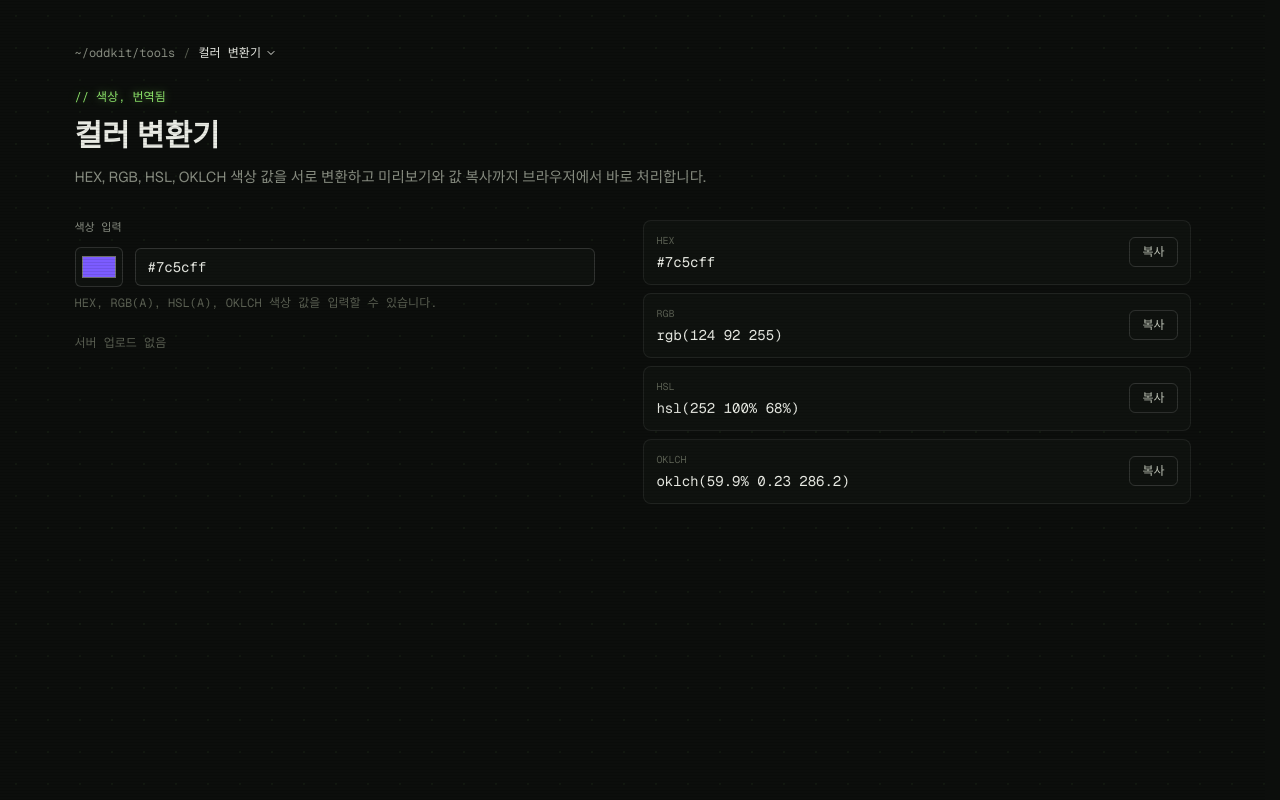
Test: ColorConverterTool › 복사 버튼: 클릭하면 클립보드에 값이 복사되고 안내 문구가 바뀐다
Expected: the heading "컬러 변환기" is shown, [74,116,220,155]
Click the button "복사" in the row of "#7c5cff" at (1153, 252), box [1129,237,1178,267]
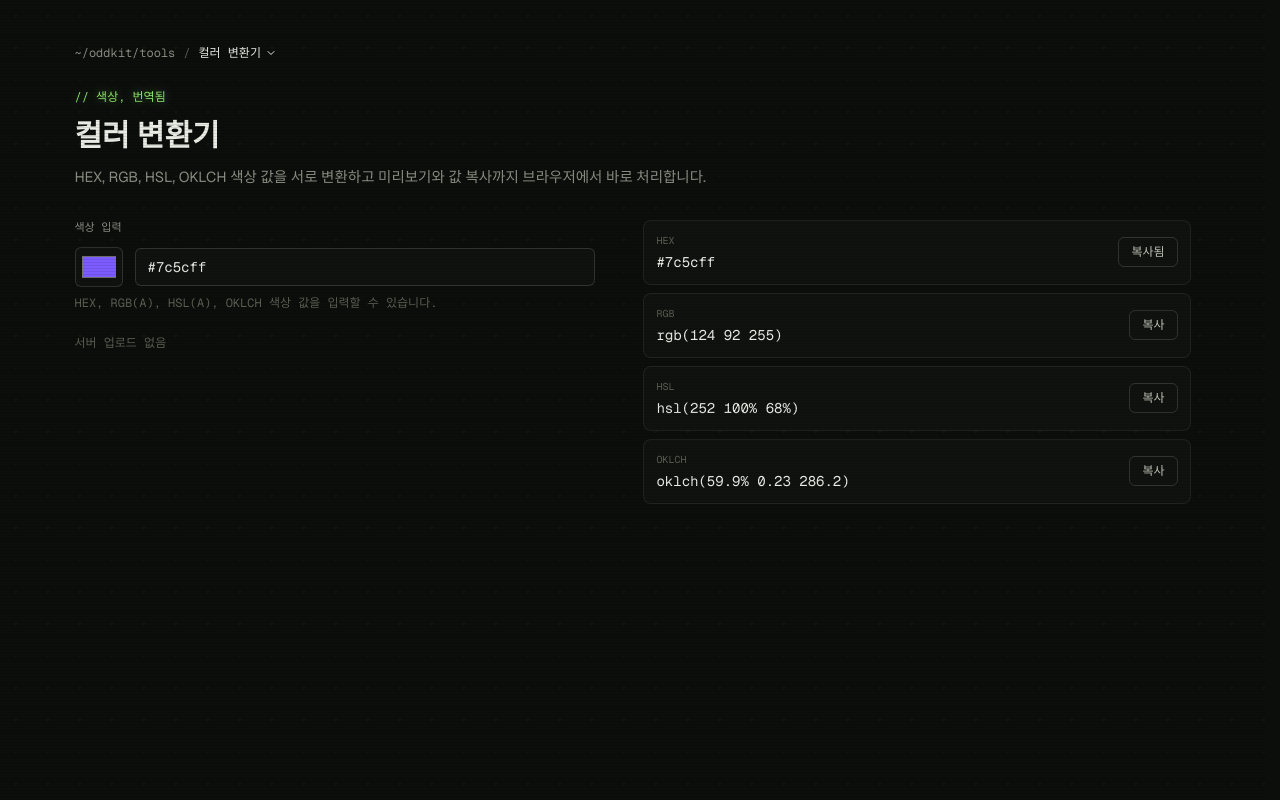
Expected: the button "복사됨" is shown, [1118,237,1178,267]
